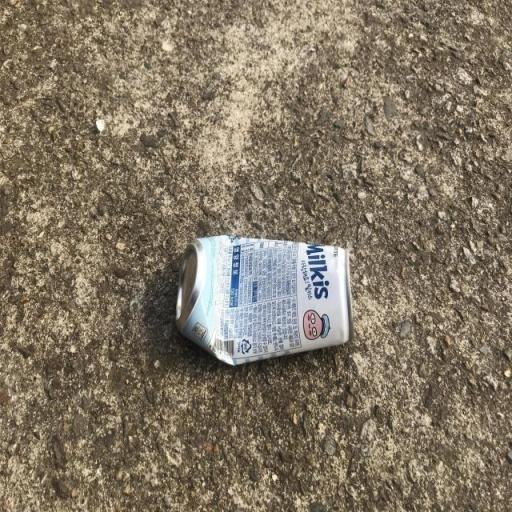metal: (162, 214, 361, 378)
